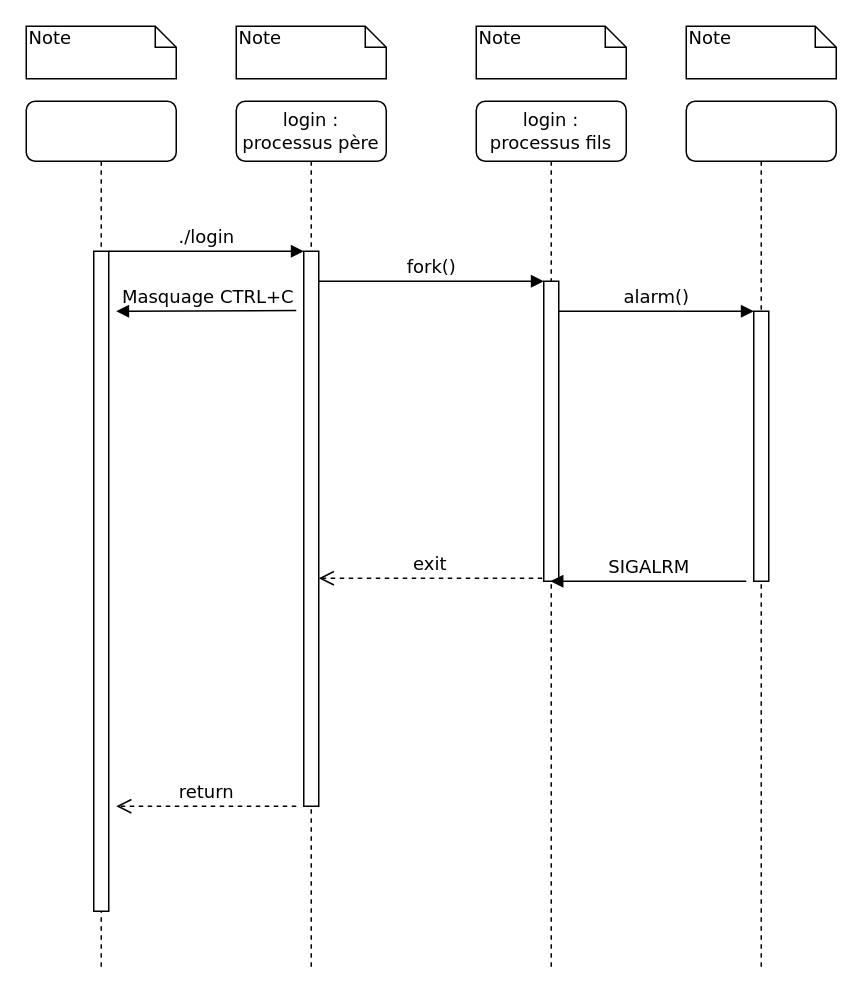
The diagram is 863 pixels wide and 998 high, and some of its shapes have lost their labels. The box of each missing label's shape, as (x1, y1, x2, y2) in pixels:
Alarme: (685, 100, 836, 971)
processus shell: (25, 100, 176, 971)
